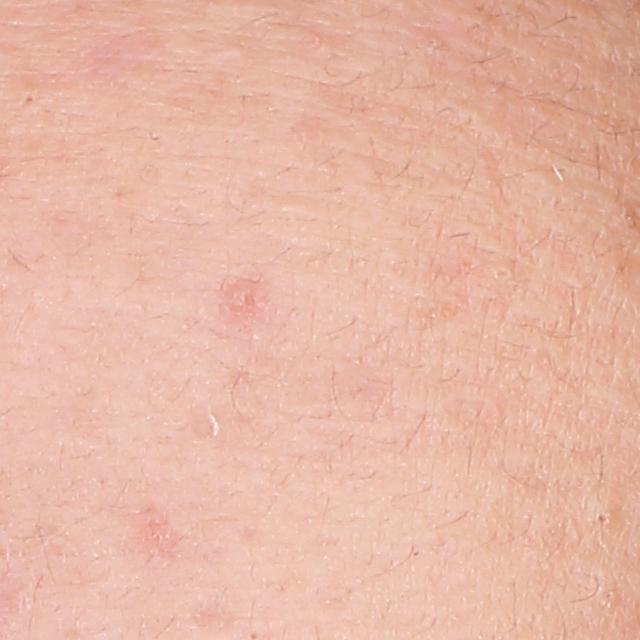comedo: (591, 507, 614, 528), (491, 264, 515, 284), (18, 91, 40, 108)
